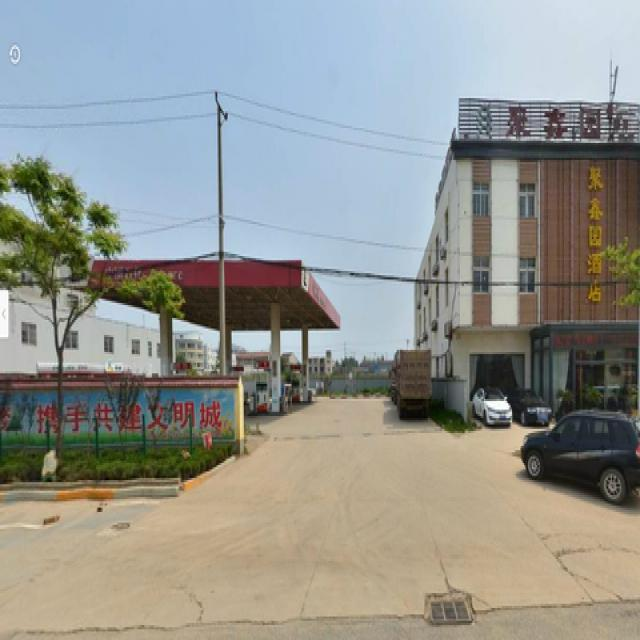koel: (36, 179, 100, 408)
